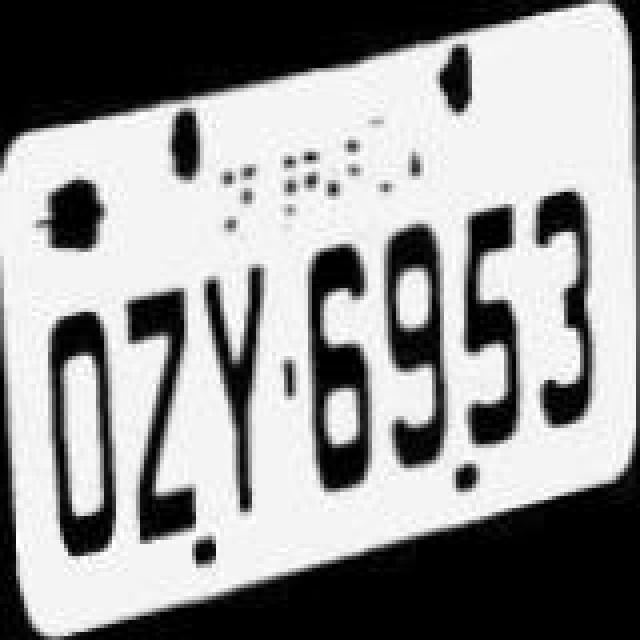3: (522, 170, 602, 430)
5: (450, 188, 530, 456)
6: (300, 228, 376, 488)
9: (380, 220, 448, 476)
O: (42, 298, 118, 558)
Y: (202, 250, 278, 518)
Z: (126, 274, 202, 538)
